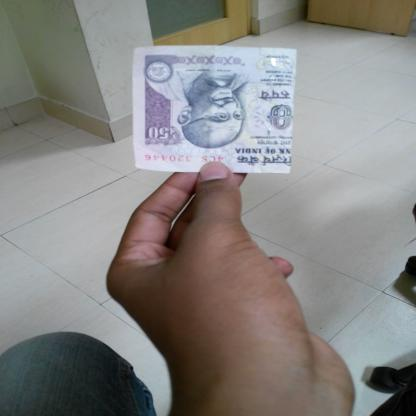Old50Front: (133, 46, 296, 174)
